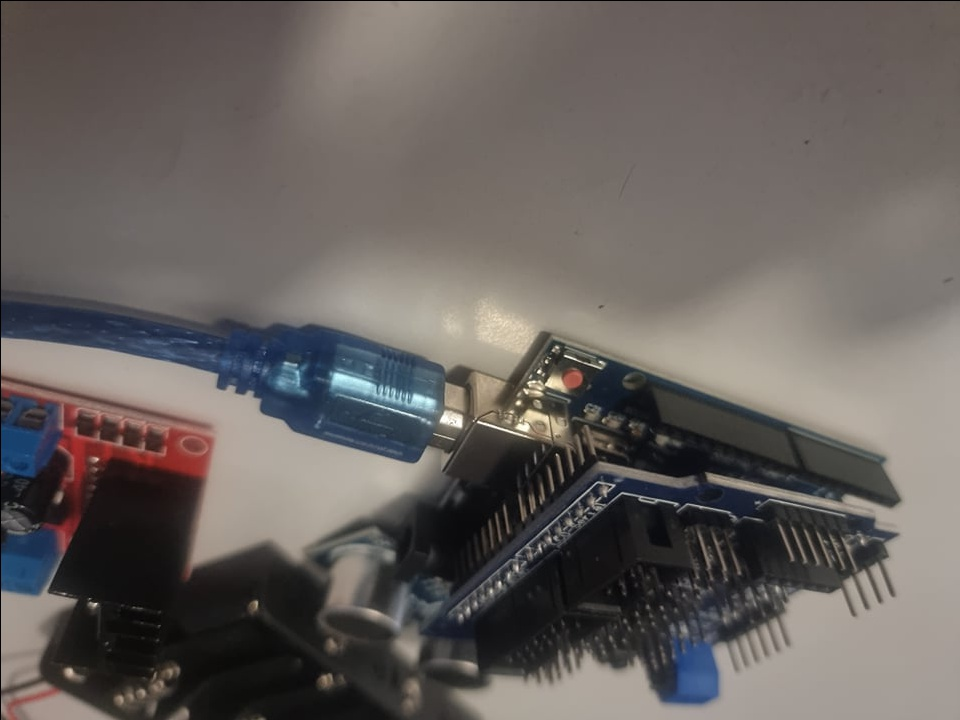5V EXPANSION: (453, 500, 899, 704)
BATTERY BOX: (73, 546, 407, 719)
MOTOR: (0, 391, 219, 680)
SENSOR: (309, 502, 448, 685)
UNO R3: (435, 329, 877, 504)
